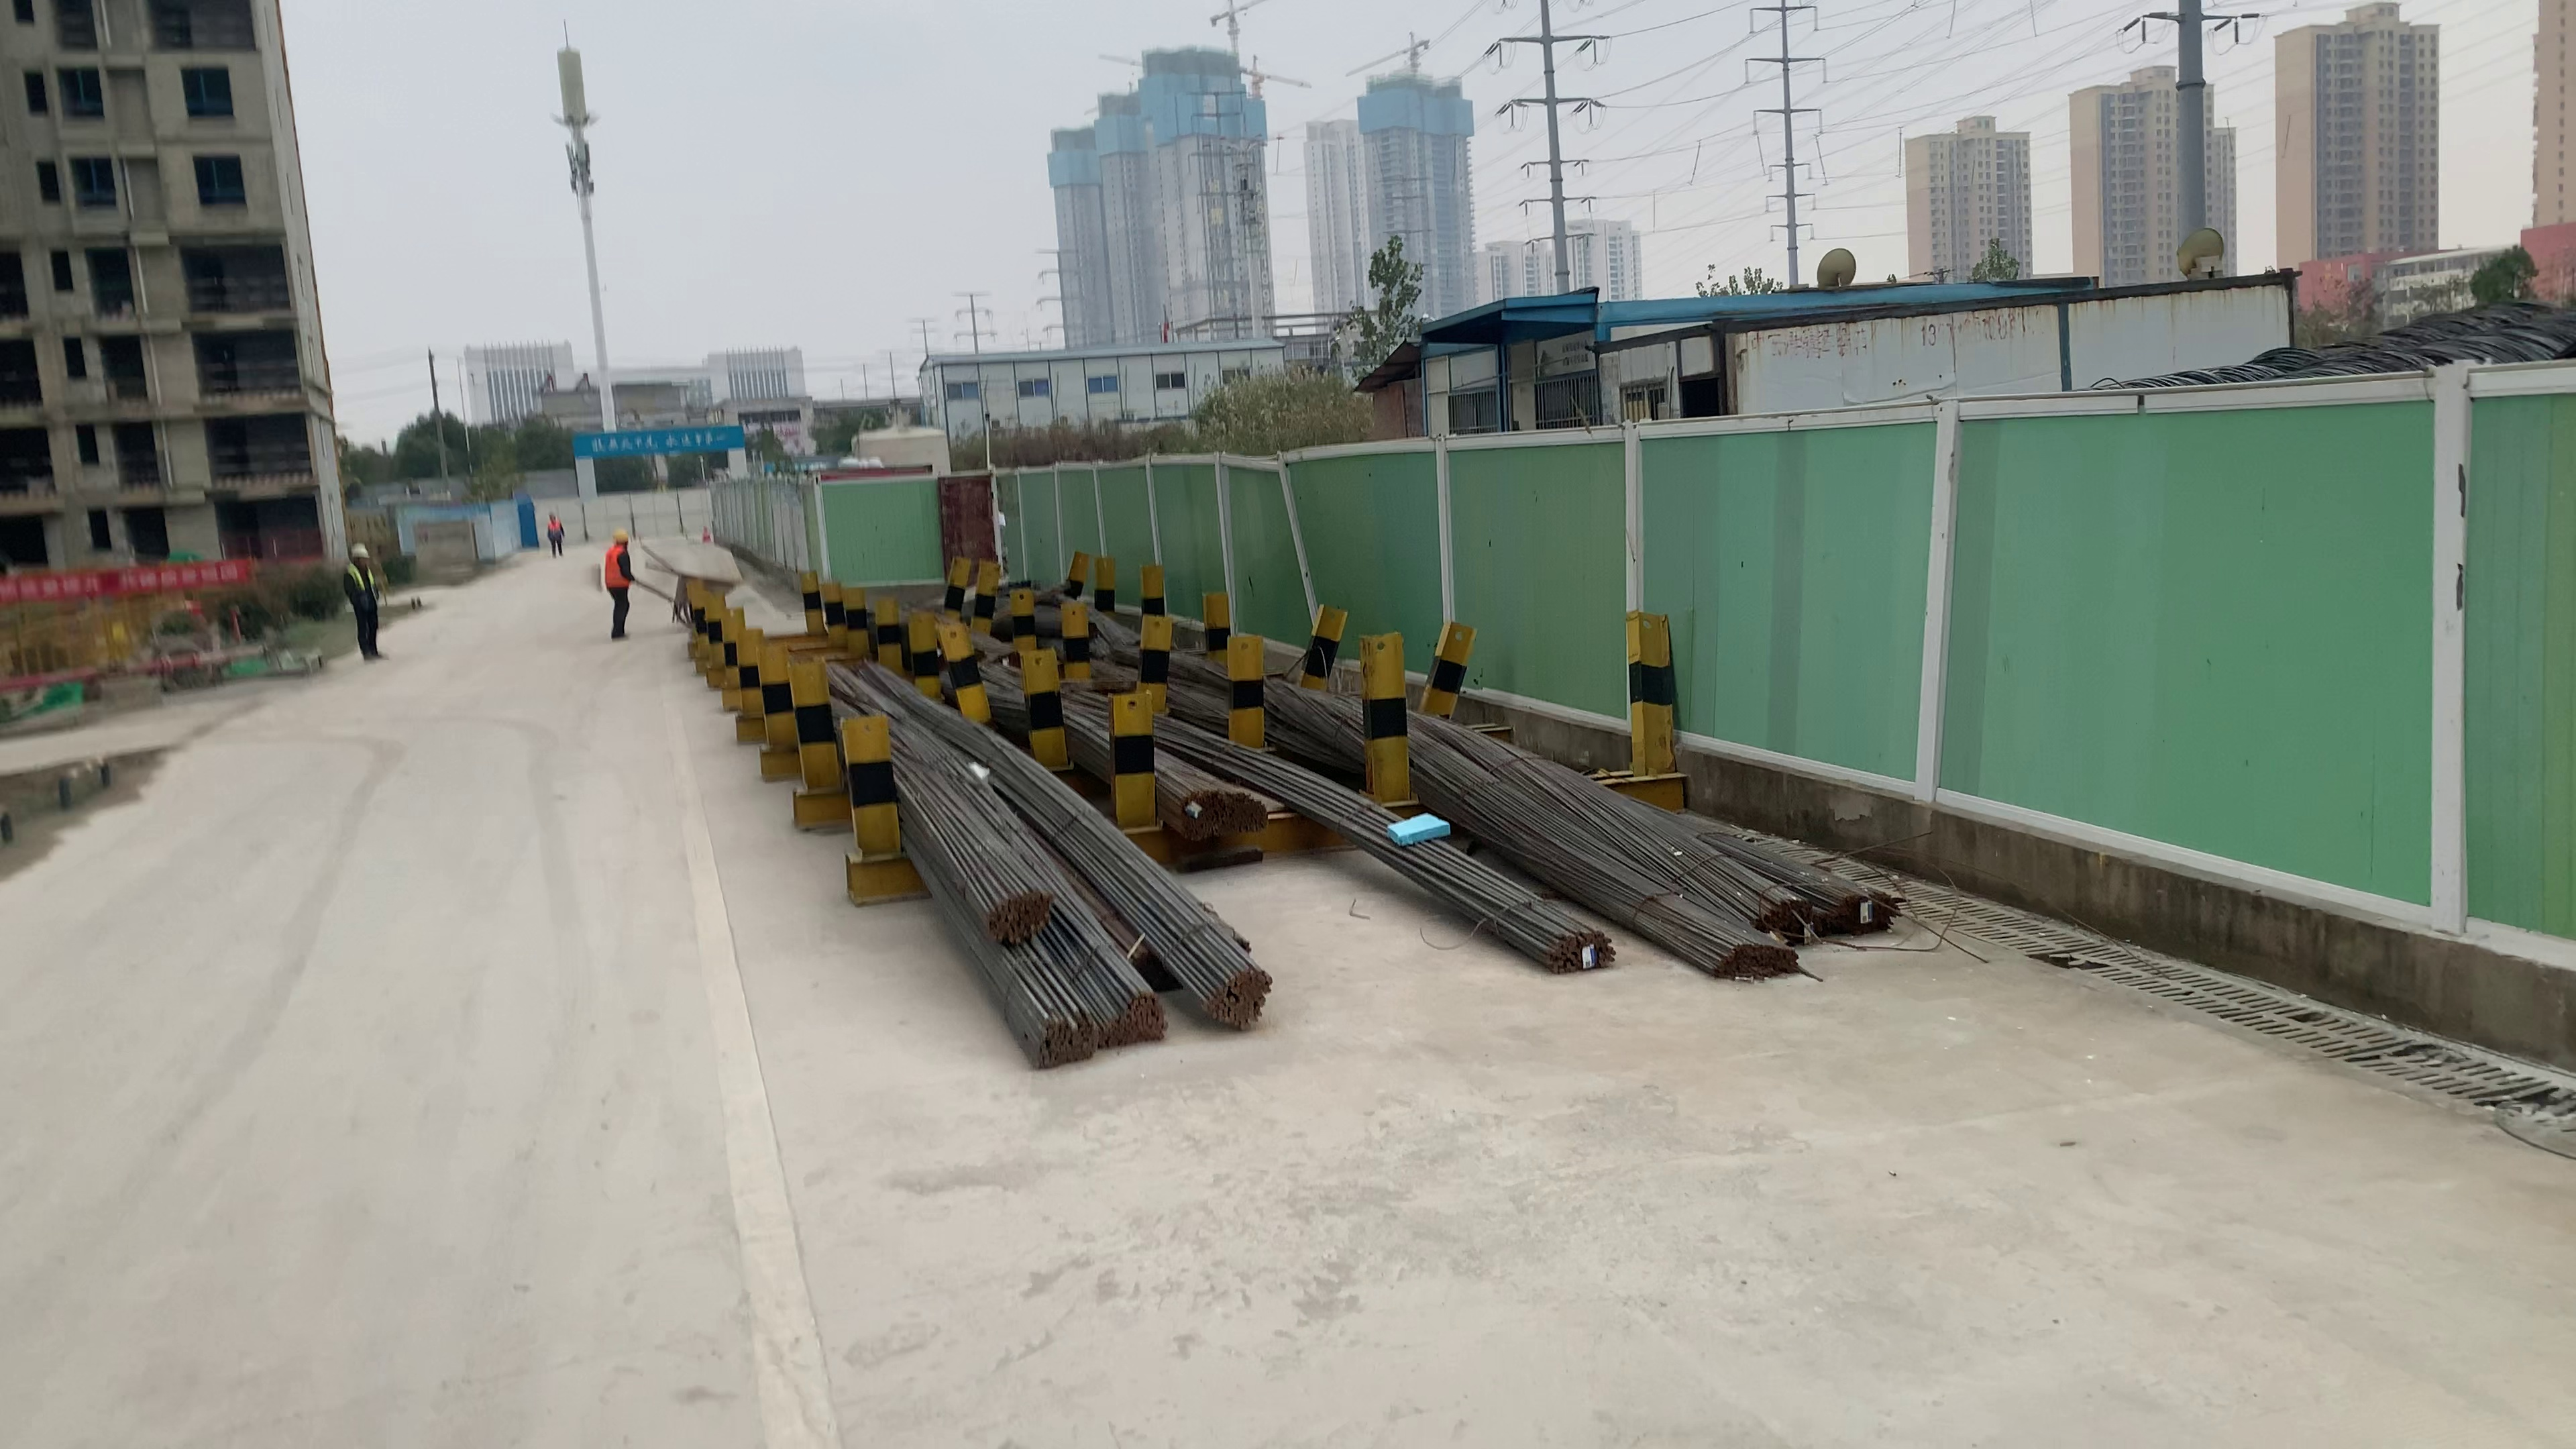rebar: (1028, 1003, 1090, 1074), (1704, 939, 1803, 982), (985, 888, 1049, 952), (1095, 994, 1169, 1047), (1546, 925, 1617, 977), (1205, 970, 1269, 1024), (1835, 892, 1898, 938), (1182, 791, 1224, 842), (1762, 897, 1817, 936), (1226, 794, 1272, 839)
